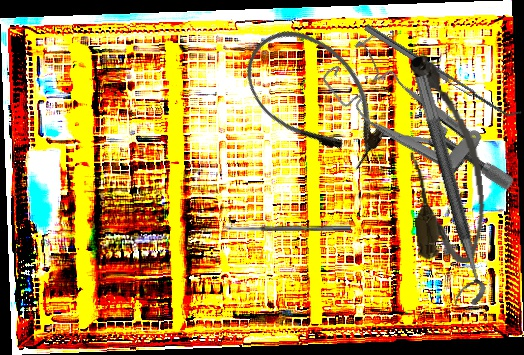Cannula: (226, 9, 407, 186), (397, 49, 491, 268)
Fixation Ring: (395, 74, 490, 310)
Spatula Surgical: (363, 17, 523, 125)
Speculum: (317, 18, 518, 237)
Surgical Spoon: (222, 225, 351, 231)
